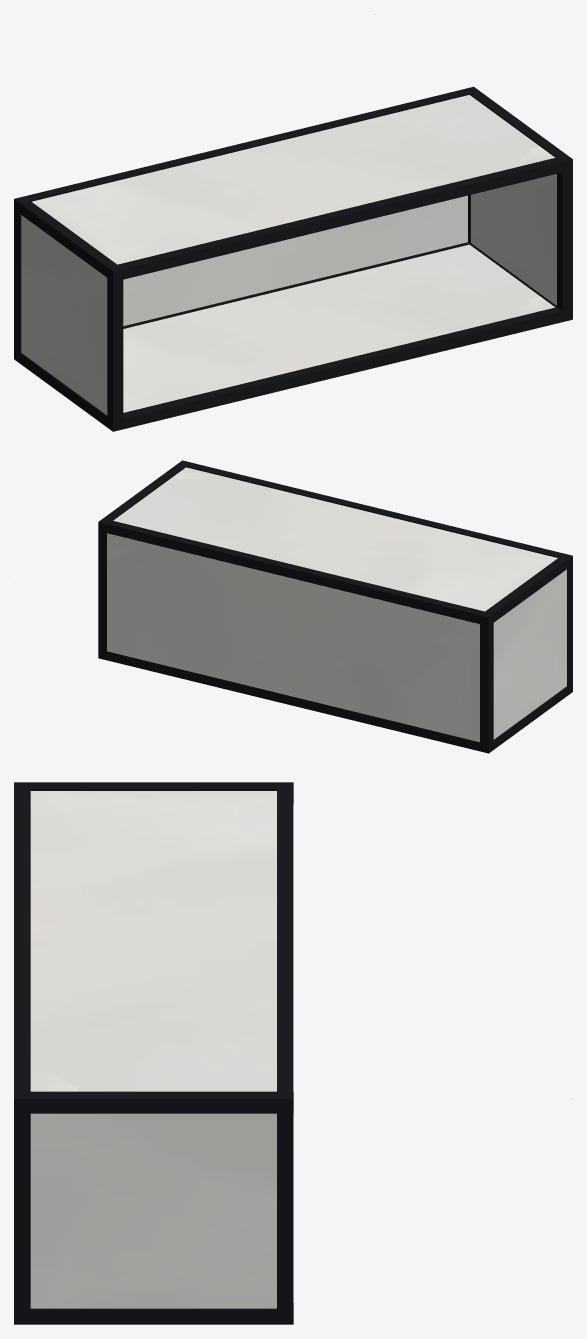
The model's file is BC-OP-XX-XX-XXX-XXX-XXX-900-300-336-15.glb.
The picture shows the model from 3 angles, top to bottom: view 1: azimuth 30°, elevation 25°; view 2: azimuth 150°, elevation 25°; view 3: azimuth 270°, elevation 25°; orthographic projection. The views are drawn at different scales.
Visible parts, largest first — view 1: TP, TP_node_1, TP_node_2, TP_node, TP_node_0, Object_node_1, Object_node_25, Object_node_15, Object_node_9, Object_node_3, Object_node_11, Object_node_35 (+3 smaller); view 2: TP_node_2, TP, TP_node, Object_node_15, Object_node_35, Object_node_1, Object_node_23, Object_node_11, Object_node_17, Object_node_31, Object_node_5, Object_node_9; view 3: TP, TP_node_0, Object_node_5, Object_node_1, Object_node_15, Object_node_27, Object_node_3, Object_node_17, Object_node_11.
Boxes of the visible parts, <box> form: TP: <box>32,95,555,264</box>; TP_node_1: <box>123,244,555,412</box>; TP_node_2: <box>123,195,467,325</box>; TP_node: <box>21,215,107,415</box>; TP_node_0: <box>471,174,556,305</box>; Object_node_1: <box>118,157,562,279</box>; Object_node_25: <box>123,307,562,429</box>; Object_node_15: <box>24,89,469,201</box>; Object_node_9: <box>107,278,123,420</box>; Object_node_3: <box>557,170,572,311</box>; Object_node_11: <box>20,201,116,277</box>; Object_node_35: <box>123,242,469,328</box>; TP_node_2: <box>107,533,479,742</box>; TP: <box>113,467,557,611</box>; TP_node: <box>493,569,566,739</box>; Object_node_15: <box>107,520,484,623</box>; Object_node_35: <box>107,651,479,751</box>; Object_node_1: <box>186,462,563,557</box>; Object_node_23: <box>480,623,493,744</box>; Object_node_11: <box>485,557,567,622</box>; Object_node_17: <box>98,531,106,651</box>; Object_node_31: <box>493,686,567,749</box>; Object_node_5: <box>103,464,185,520</box>; Object_node_9: <box>567,565,572,686</box>; TP: <box>30,791,276,1091</box>; TP_node_0: <box>30,1113,276,1308</box>; Object_node_5: <box>30,1091,276,1113</box>; Object_node_1: <box>14,789,30,1091</box>; Object_node_15: <box>277,789,293,1091</box>; Object_node_27: <box>30,1308,276,1324</box>; Object_node_3: <box>14,1113,30,1309</box>; Object_node_17: <box>277,1113,293,1309</box>; Object_node_11: <box>30,782,276,790</box>.
Bounding box in the file's own units: 0.9 × 0.3 × 0.672.
Materials: 3 (1 with a texture image).
